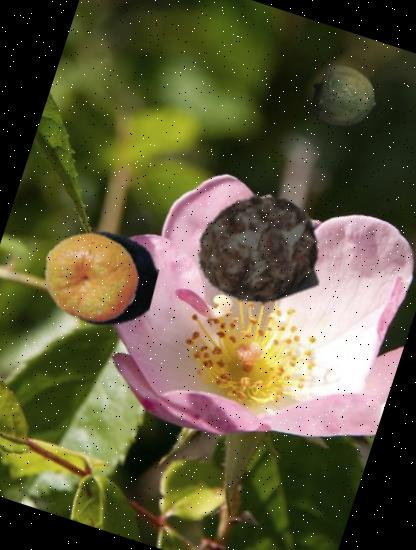Blueberry: (35, 212, 169, 346)
Limes: (303, 56, 384, 138)
Mandarine: (29, 217, 152, 340)
Pineapple: (180, 172, 336, 327)
